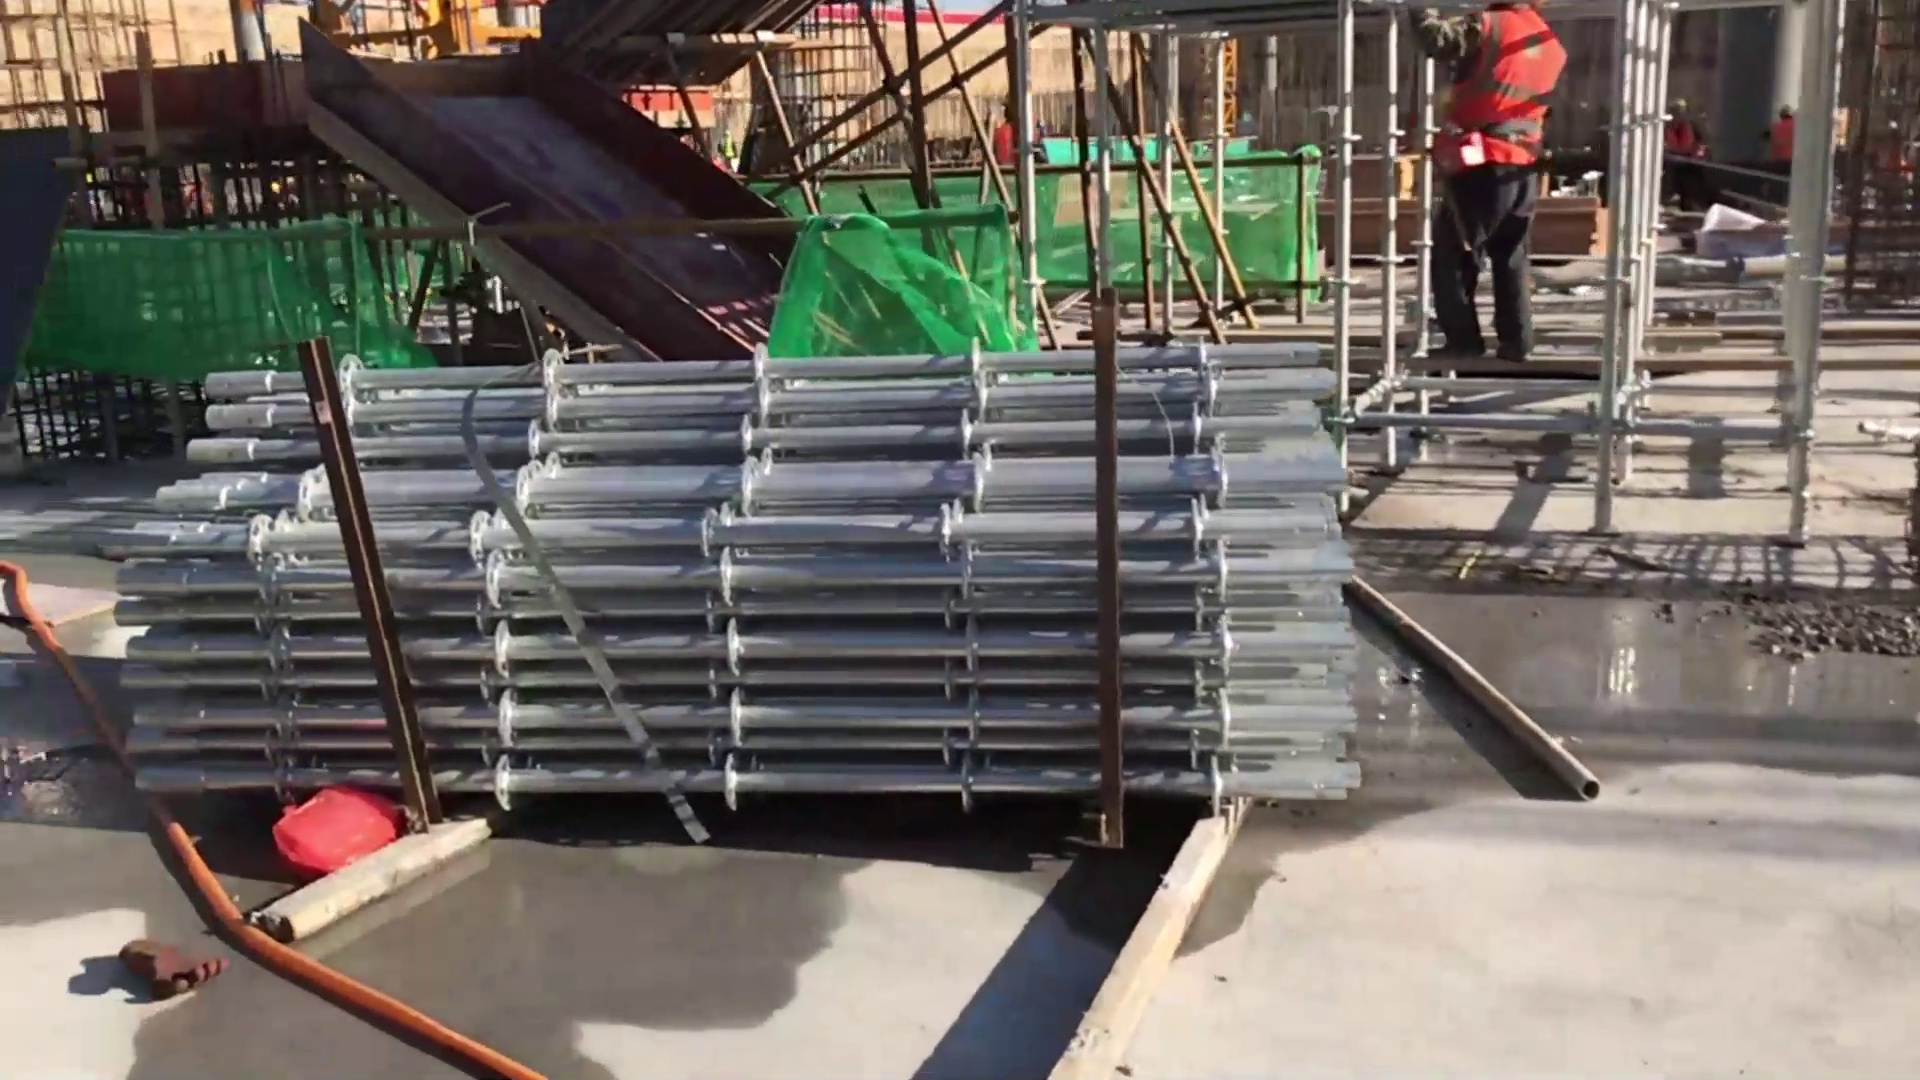person: (1430, 1, 1571, 360)
scaffold: (111, 347, 1365, 815)
vest: (1440, 3, 1553, 167)
